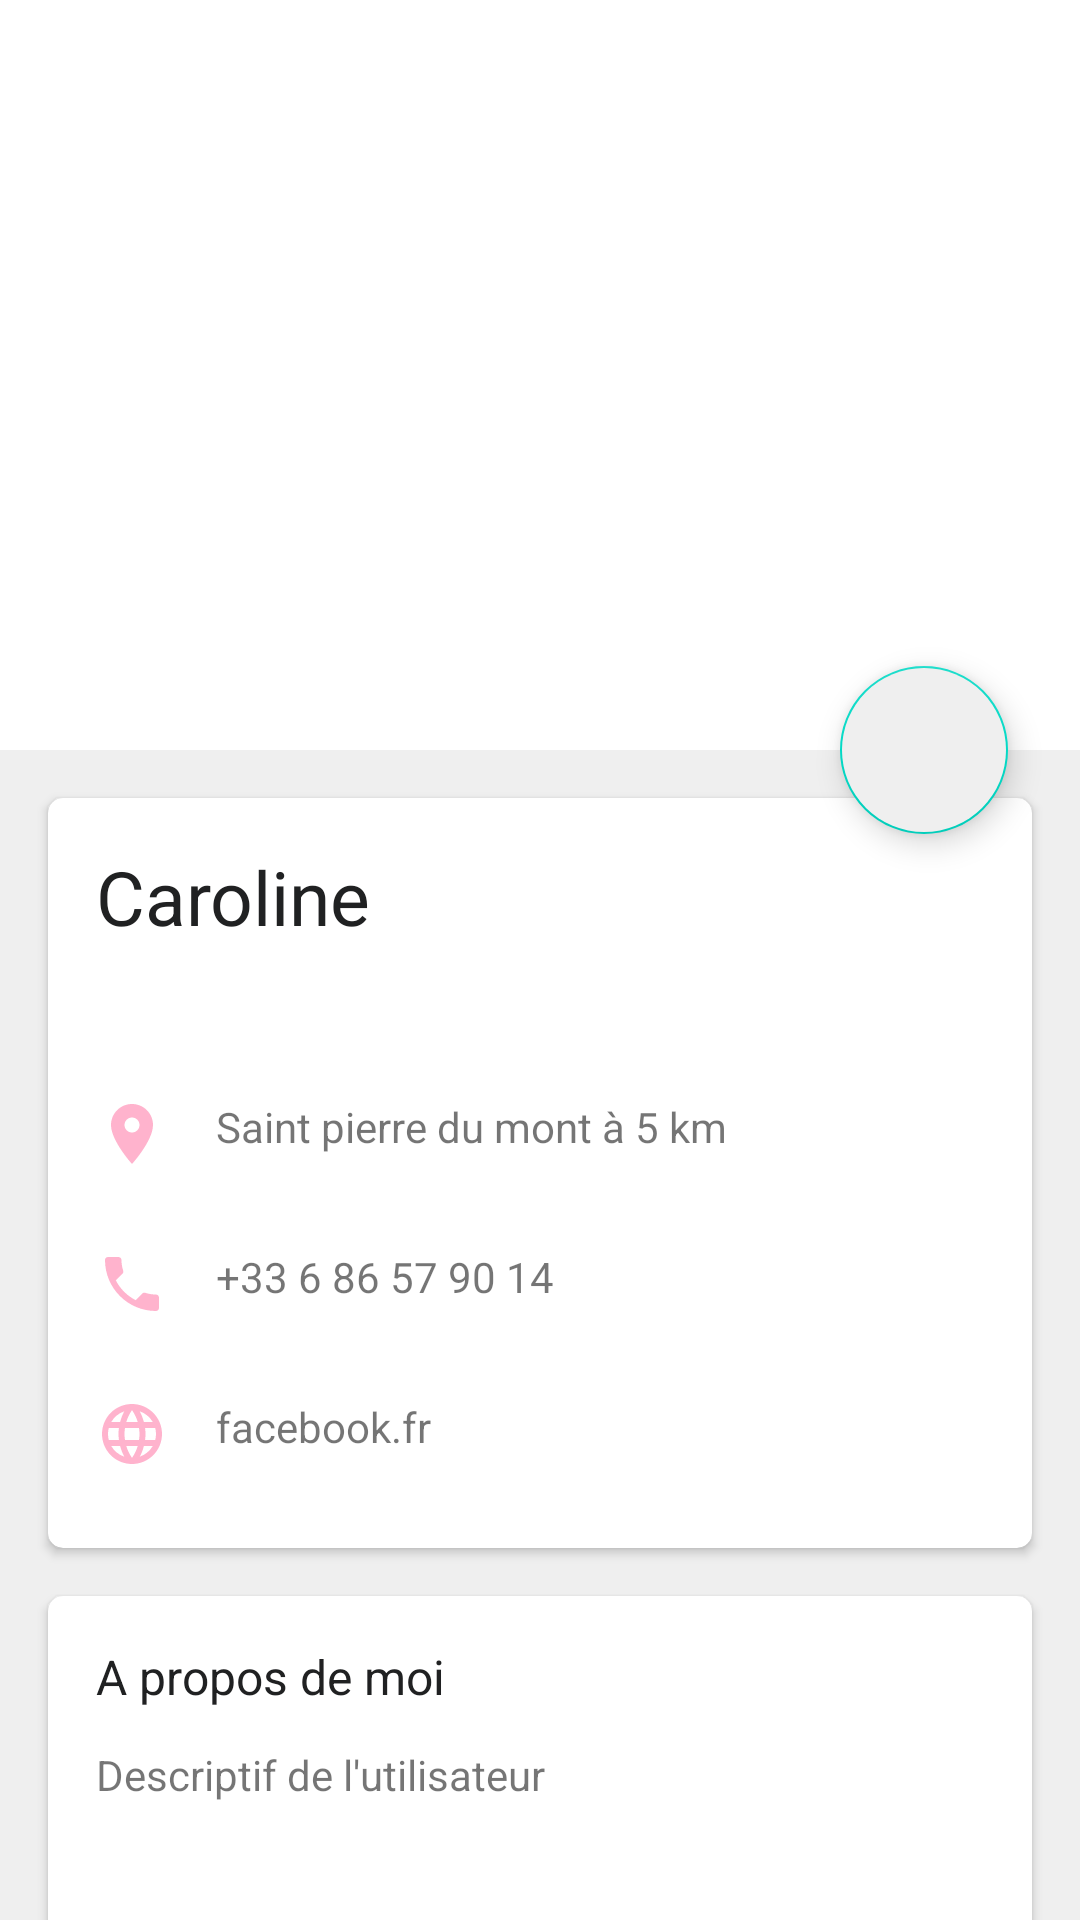

Named icons in this screenshot (1080x1920) and their centers, point (x, y):
location: point (132, 1134)
phone: point (132, 1284)
